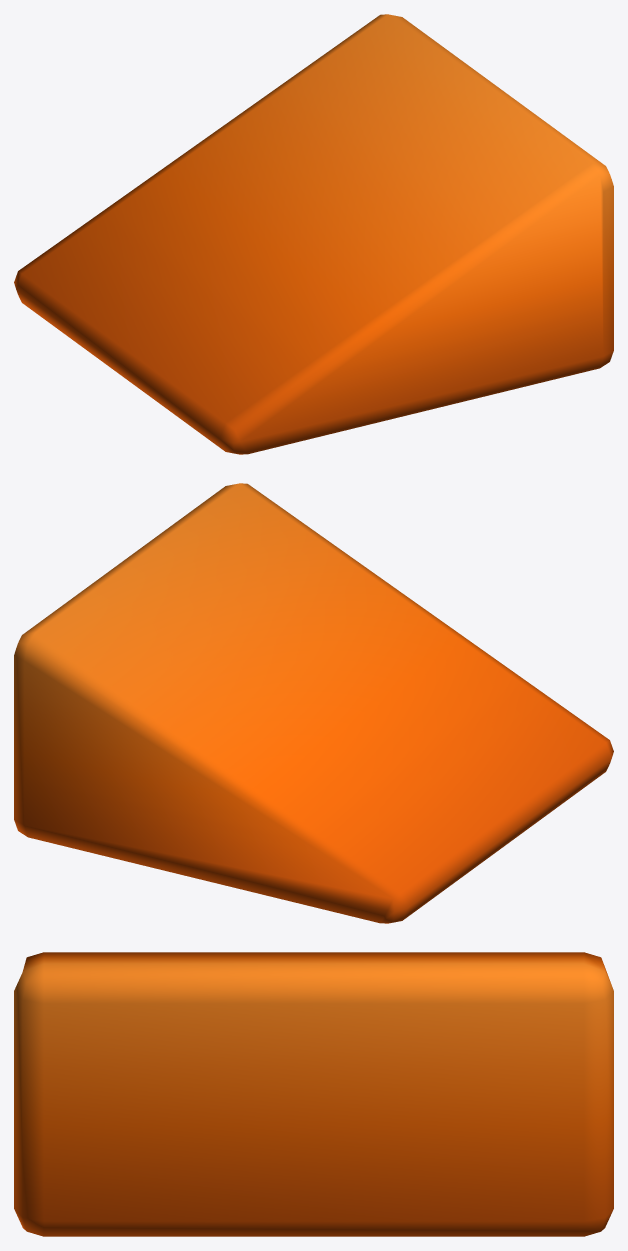
File: 3D_Tile_Ground_Slope_03B.fbx
The picture shows the model from 3 angles, top to bottom: view 1: azimuth 30°, elevation 25°; view 2: azimuth 150°, elevation 25°; view 3: azimuth 270°, elevation 25°; orthographic projection. The views are drawn at different scales.
Parts seen in each view (by area): view 1: 3D_Tile_Ground_Slope_03B; view 2: 3D_Tile_Ground_Slope_03B; view 3: 3D_Tile_Ground_Slope_03B.
Part boxes in pixels (box(x1,y1,x2,y2)): 3D_Tile_Ground_Slope_03B: box(14, 14, 613, 454); 3D_Tile_Ground_Slope_03B: box(14, 483, 613, 923); 3D_Tile_Ground_Slope_03B: box(14, 952, 613, 1236).
Size of the model in its own units: 200 by 100 by 200.
